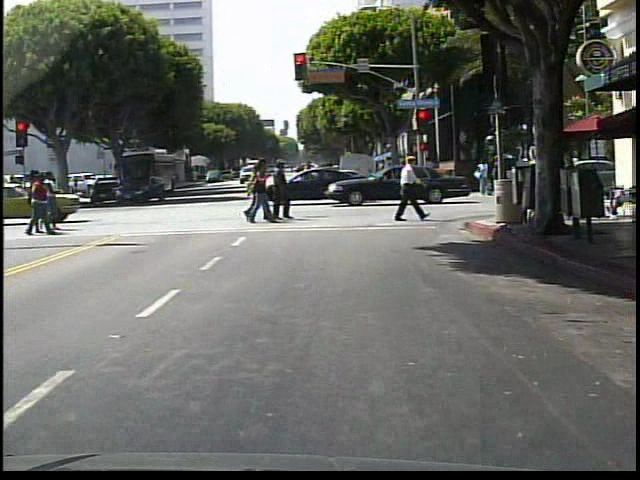person: (386, 147, 429, 229)
